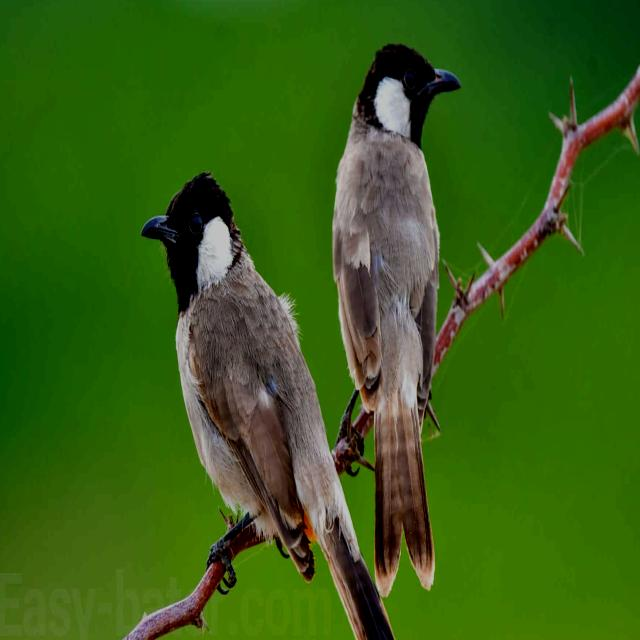bird: (140, 164, 412, 640), (326, 37, 462, 610)
